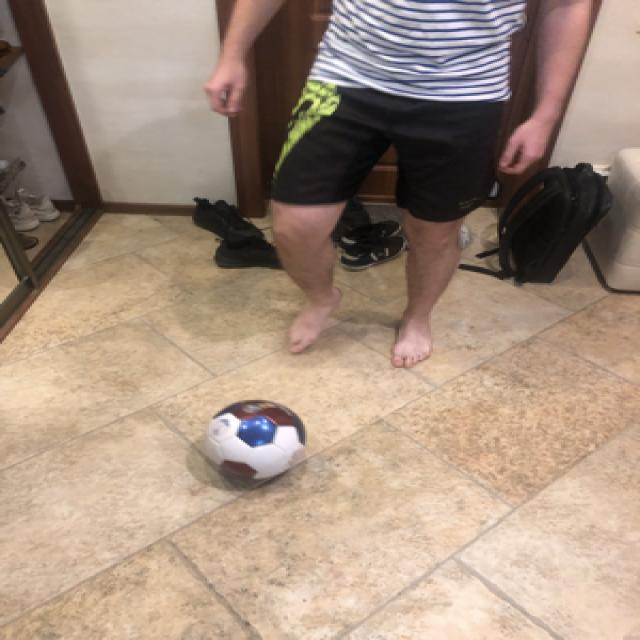soccer_ball: (201, 394, 305, 480)
